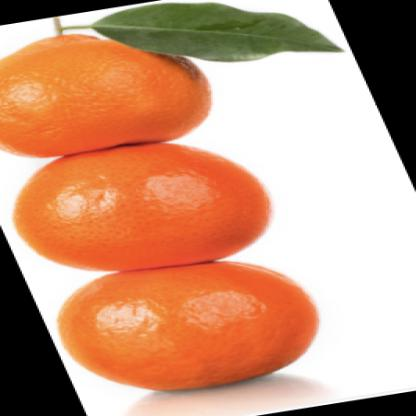orange: (32, 260, 331, 396), (1, 135, 286, 271), (1, 18, 223, 154)
